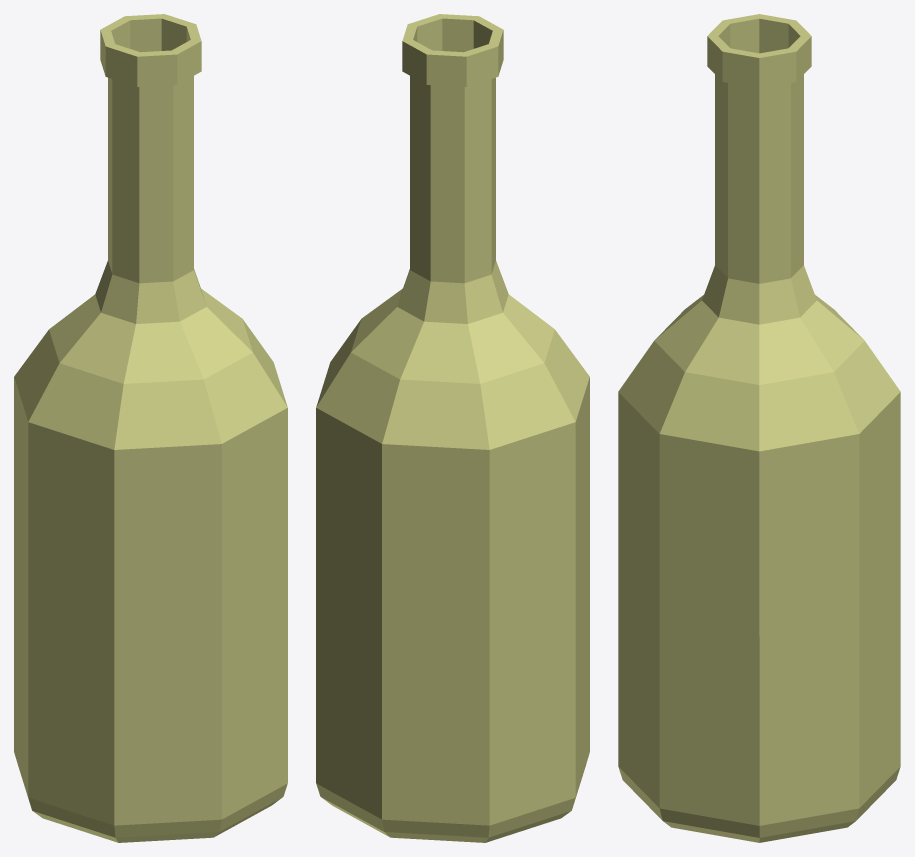
The model's file is Bottle.fbx.
3 views of the same model, side by side, from view 1: azimuth 30°, elevation 25°; view 2: azimuth 150°, elevation 25°; view 3: azimuth 270°, elevation 25° (orthographic).
Visible parts, largest first — view 1: Bottle; view 2: Bottle; view 3: Bottle.
Part boxes in pixels (x1,y1,x2,y2): Bottle: (14,14,287,842); Bottle: (316,14,589,842); Bottle: (618,14,900,842).
Size of the model in its own units: 200 by 592 by 200.
